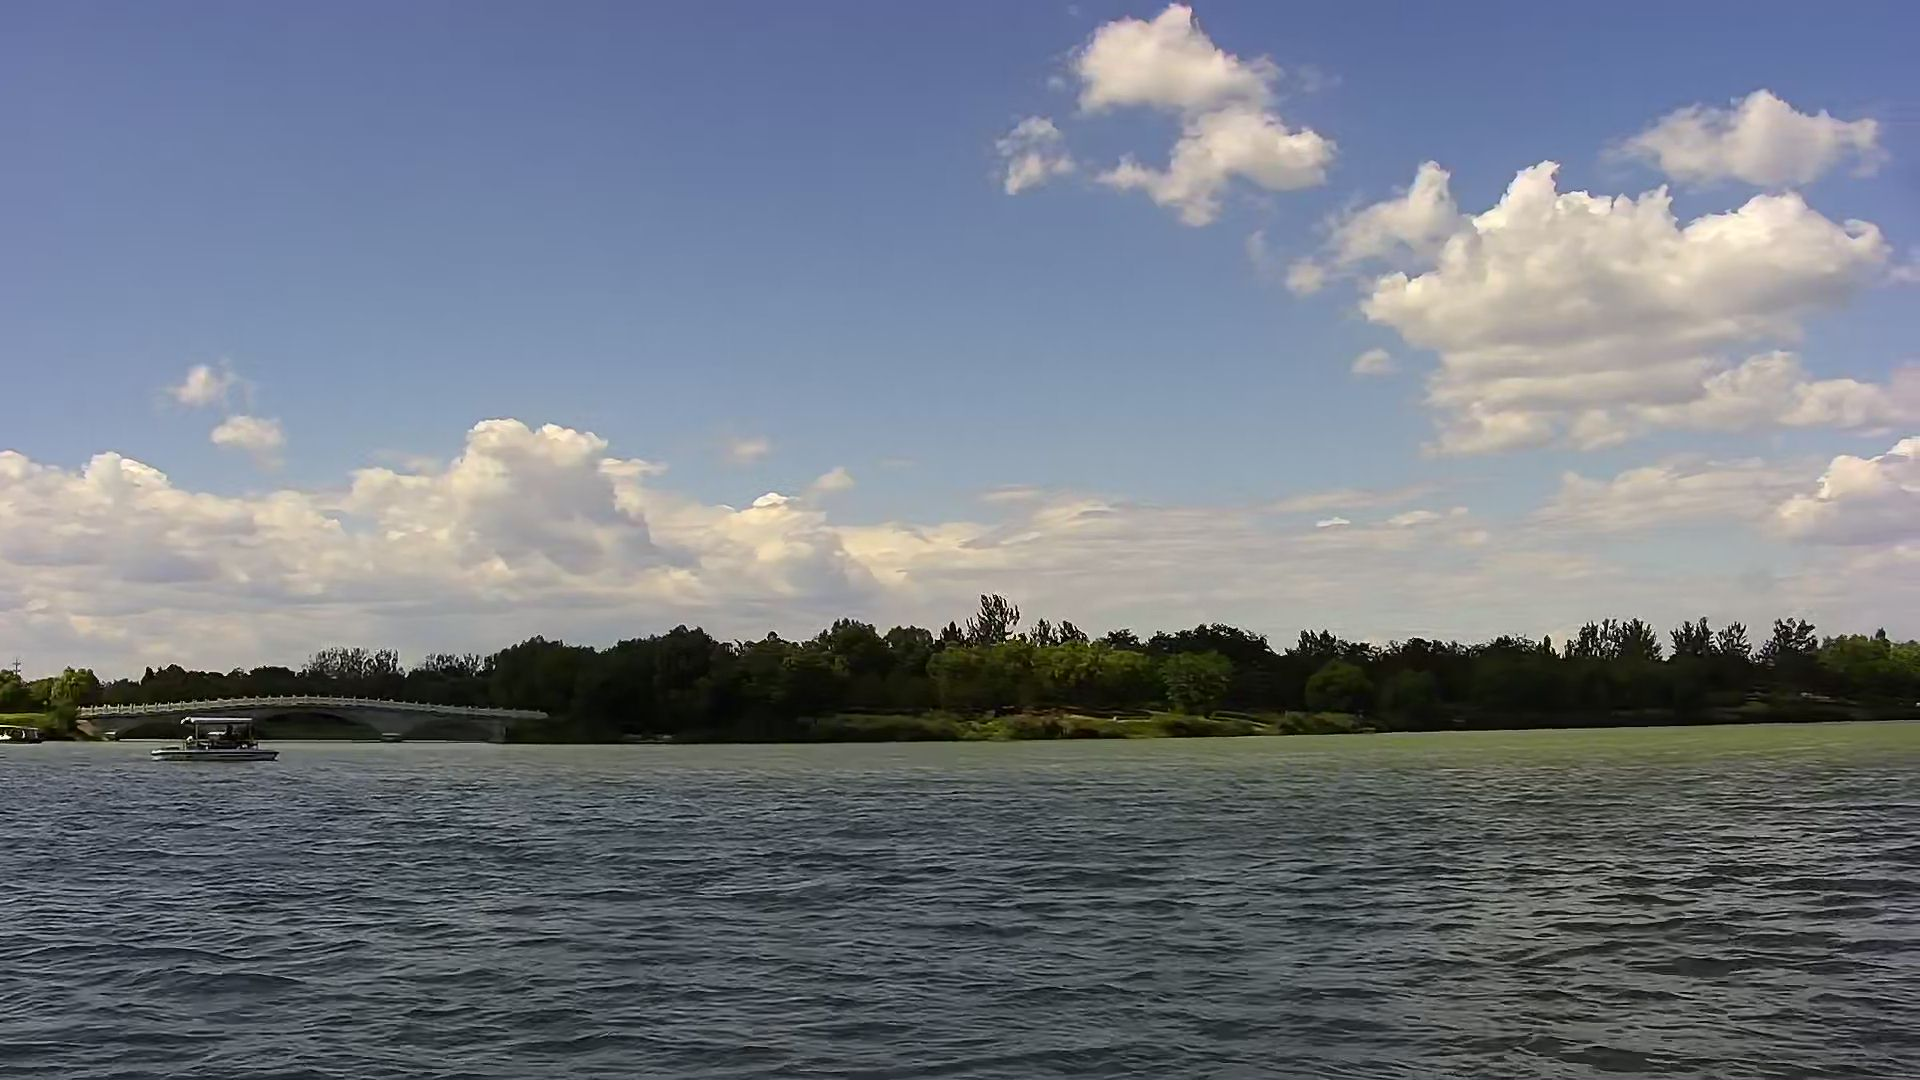boat: (144, 720, 291, 765)
bridge: (75, 694, 553, 746)
